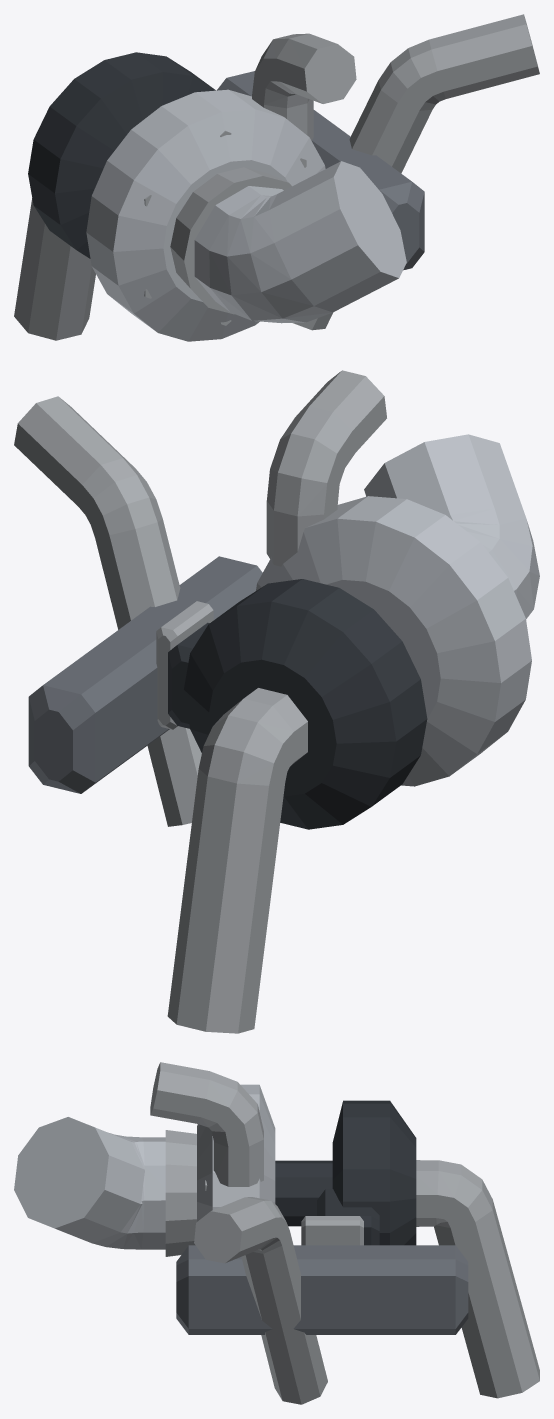
File: vortex_r_big_turbo.glb
3 views of the same model, one above another, from view 1: azimuth 30°, elevation 25°; view 2: azimuth 150°, elevation 25°; view 3: azimuth 270°, elevation 25° (orthographic). The views are drawn at different scales.
Parts seen in each view (by area): view 1: model; view 2: model; view 3: model.
Part boxes in pixels (bbox=[...]): model: bbox=[14, 14, 539, 341]; model: bbox=[14, 370, 539, 1033]; model: bbox=[14, 1062, 539, 1404].
Bounding box in the file's own units: 0.4199 × 0.3757 × 0.5042.
2 materials, 1 textured.
